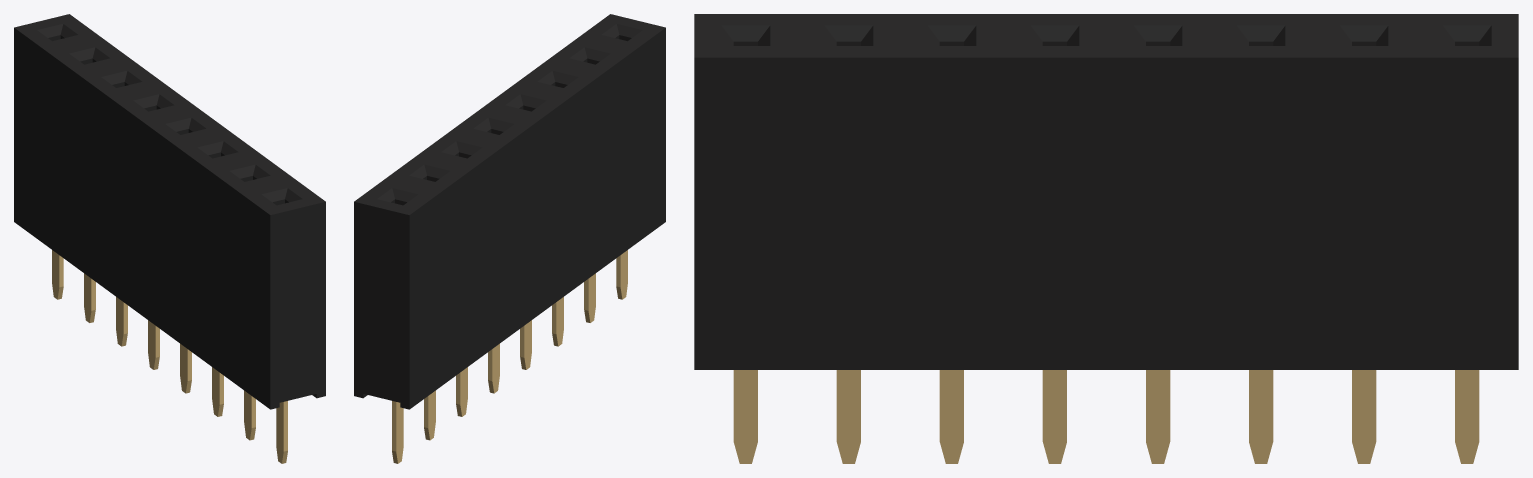
Rendered from PinSocket_1x08_P2.54mm_Vertical.glb.
3 renders of one model, left to right at view 1: azimuth 30°, elevation 25°; view 2: azimuth 150°, elevation 25°; view 3: azimuth 270°, elevation 25°, orthographic. The views are drawn at different scales.
Parts seen in each view (by area): view 1: =>[0:1:1:3]; view 2: =>[0:1:1:3]; view 3: =>[0:1:1:3].
Boxes of the visible parts, x1,y1,x2,y2 form: =>[0:1:1:3]: (14, 14, 325, 463); =>[0:1:1:3]: (354, 14, 665, 463); =>[0:1:1:3]: (694, 14, 1518, 463).
Size of the model in its own units: 0.00254 by 0.0116 by 0.0203.
